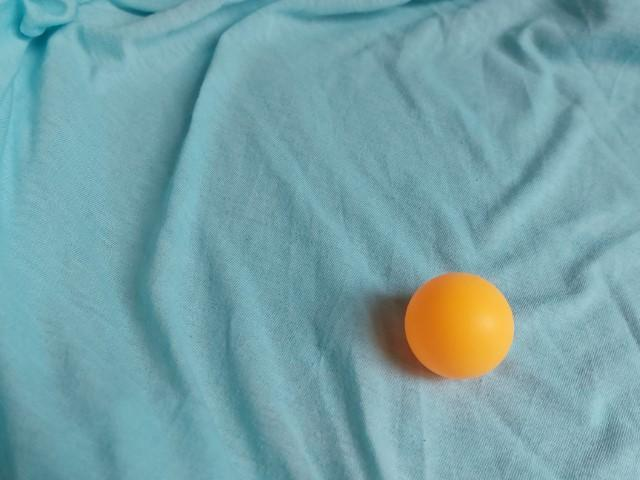oball: (396, 265, 522, 386)
